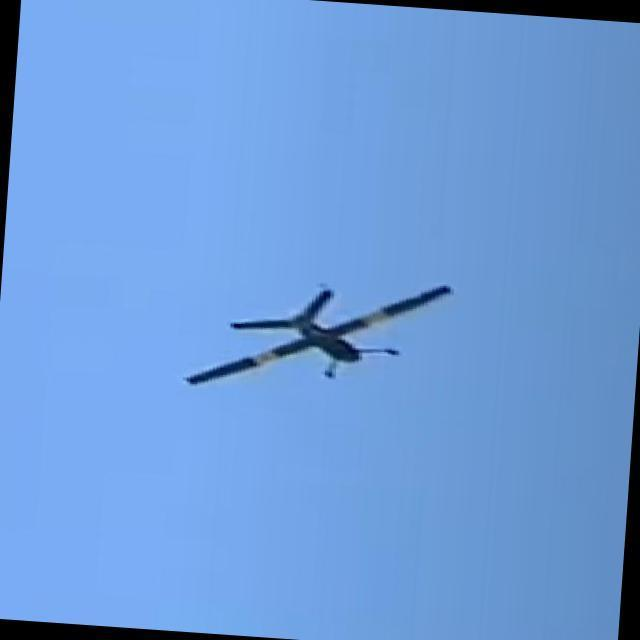iha: (167, 256, 456, 432)
